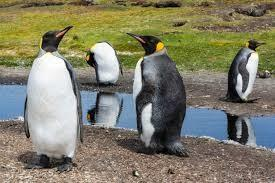king: (109, 26, 202, 160), (21, 14, 93, 172), (223, 29, 261, 121)
